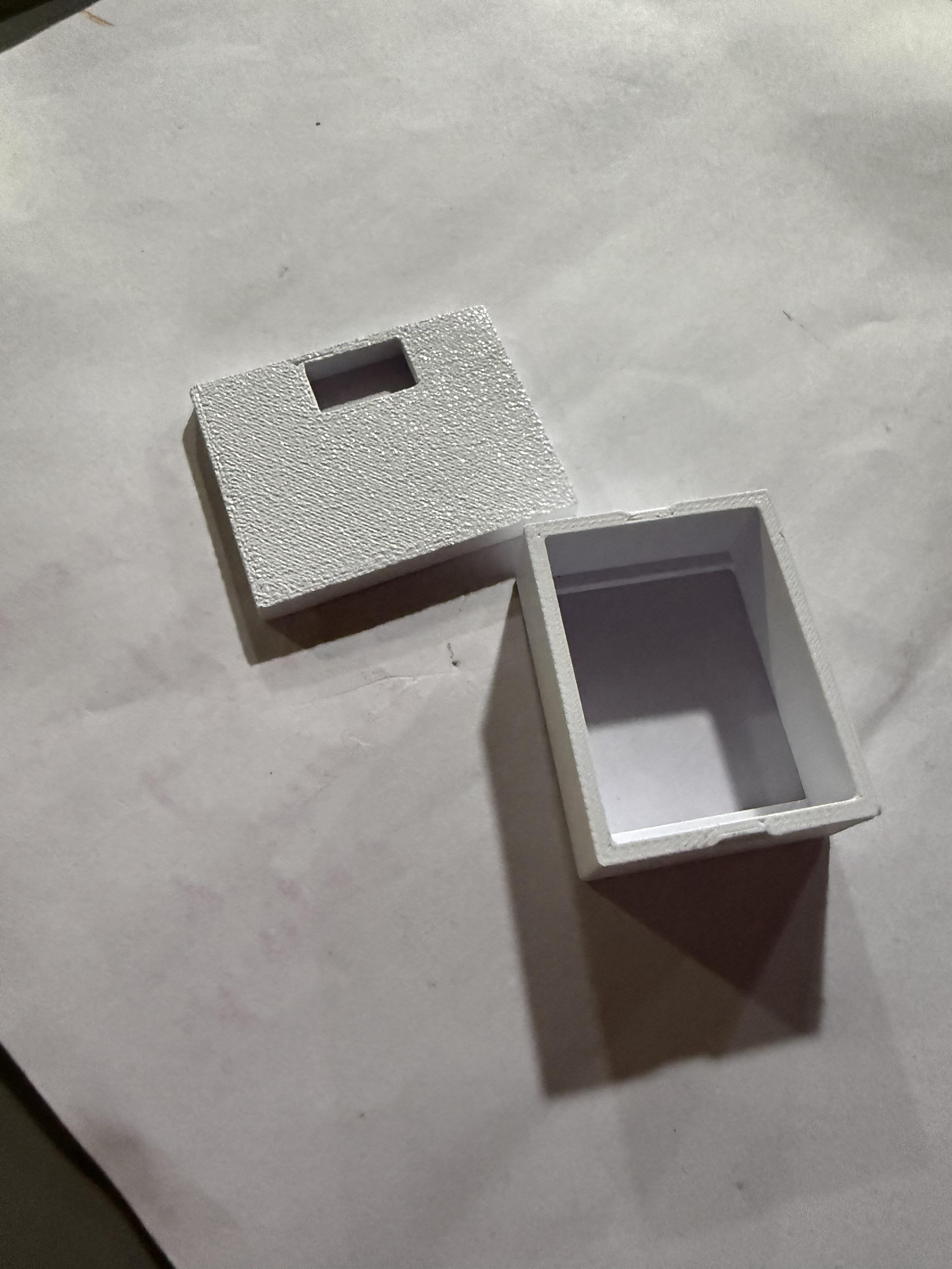enclosure: (190, 304, 881, 882)
